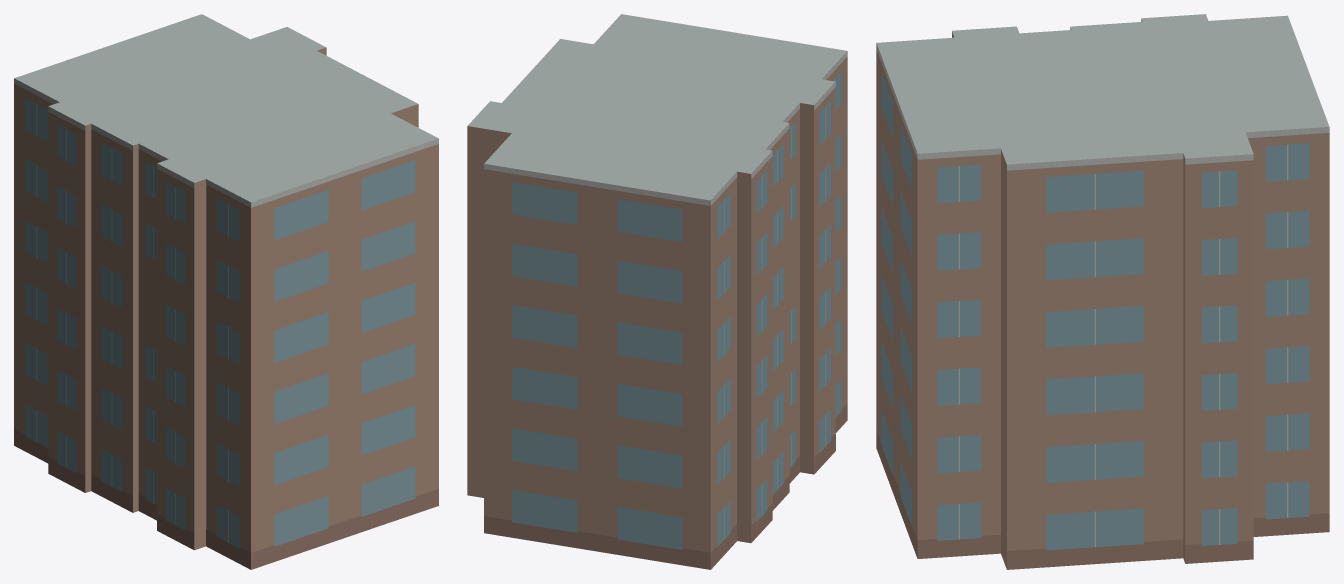
The model's file is survey-upis-32699023.glb.
The picture shows the model from 3 angles, left to right: view 1: azimuth 30°, elevation 25°; view 2: azimuth 150°, elevation 25°; view 3: azimuth 270°, elevation 25°; orthographic projection. The views are drawn at different scales.
Visible parts, largest first — view 1: survey-upis-32699023.tmp; view 2: survey-upis-32699023.tmp; view 3: survey-upis-32699023.tmp.
Boxes of the visible parts, x1=… form: survey-upis-32699023.tmp: x1=14, y1=14, x2=438, y2=569; survey-upis-32699023.tmp: x1=467, y1=14, x2=847, y2=569; survey-upis-32699023.tmp: x1=876, y1=14, x2=1329, y2=569.
Bounding box in the file's own units: 13.25 × 16.6 × 16.84.
